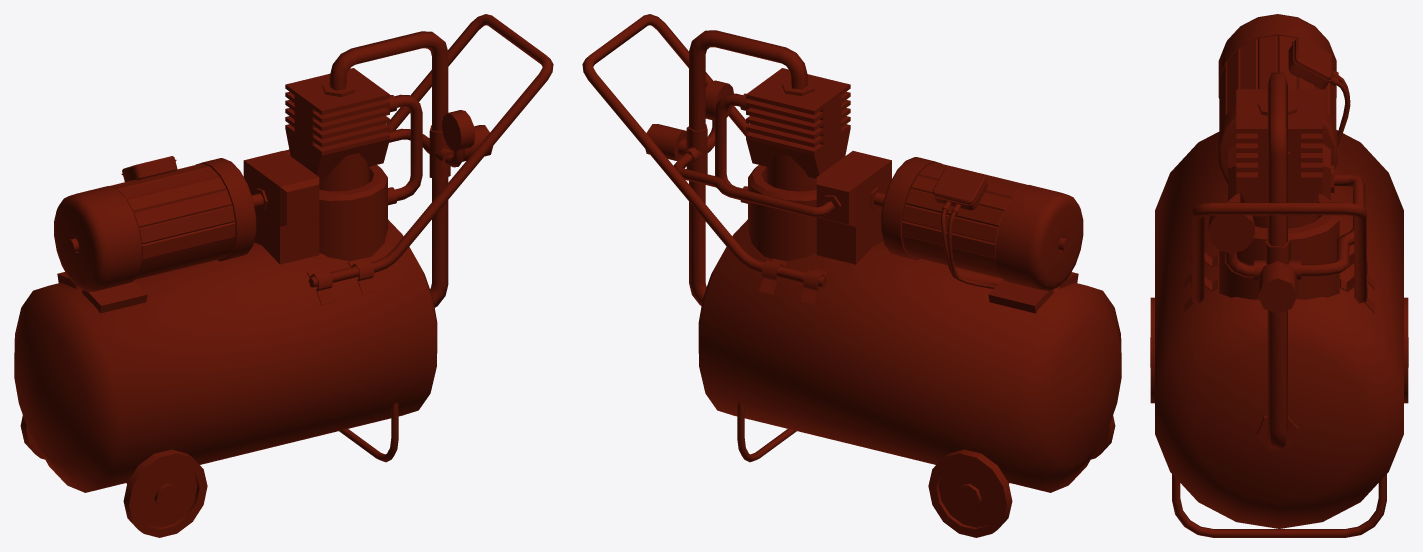
Rendered from compressor2.FBX.
The picture shows the model from 3 angles, left to right: view 1: azimuth 30°, elevation 25°; view 2: azimuth 150°, elevation 25°; view 3: azimuth 270°, elevation 25°; orthographic projection. The views are drawn at different scales.
Parts seen in each view (by area): view 1: compressor2; view 2: compressor2; view 3: compressor2.
Boxes of the visible parts, left/top/right/bottom form: compressor2: left=14, top=14, right=553, bottom=537; compressor2: left=582, top=14, right=1121, bottom=537; compressor2: left=1150, top=14, right=1408, bottom=537.
Size of the model in its own units: 105 by 80.28 by 40.51.
